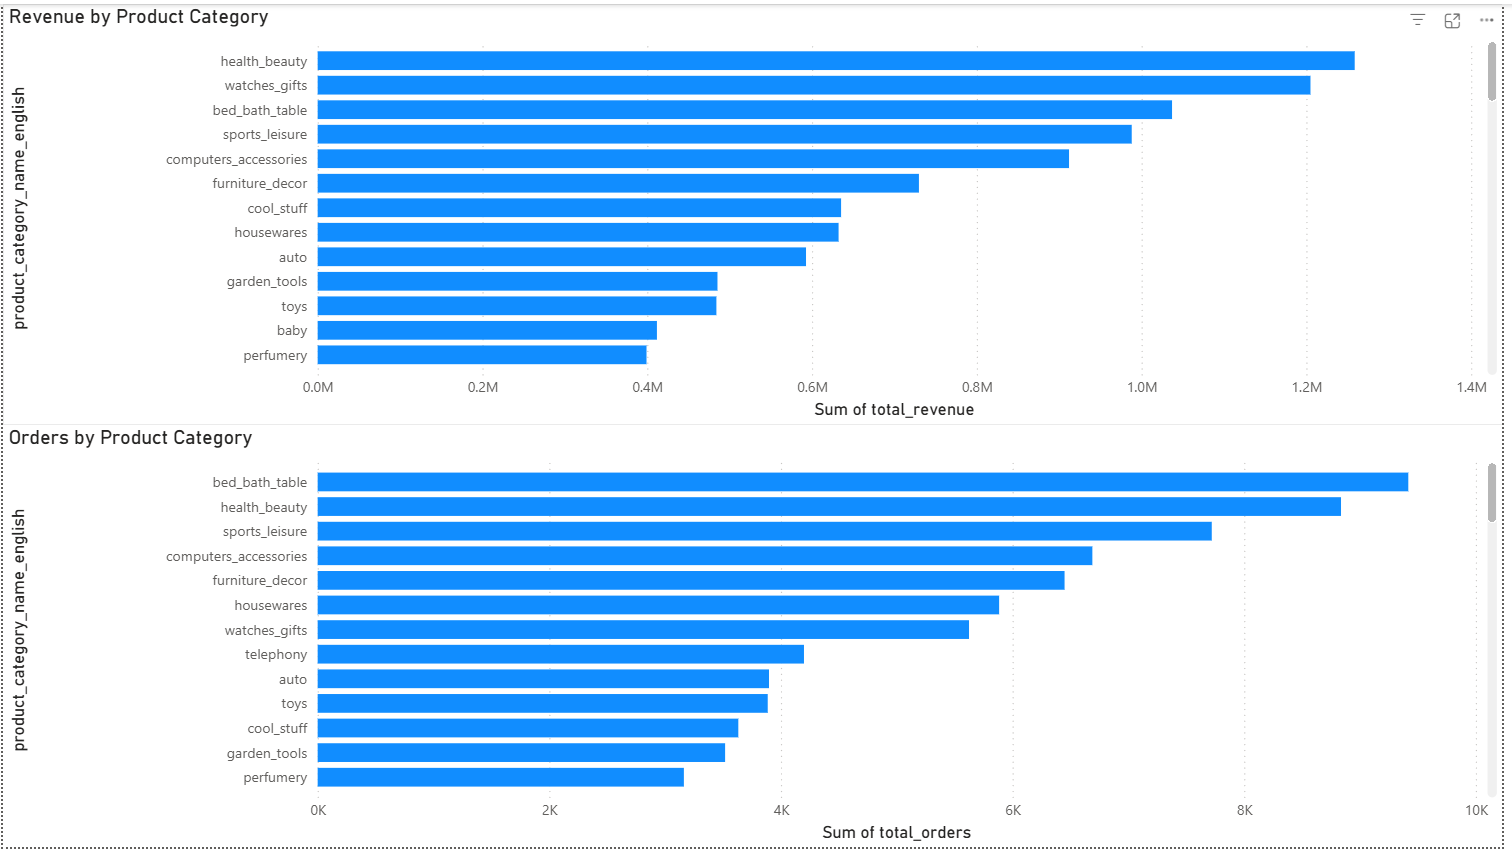

The page's visual inventory and layout, read from the dashboard file:
{"tool":"powerbi","page":{"name":"Product Analysis","canvas":[1280,720],"ordinal":1},"visuals":[{"type":"clusteredBarChart","title":"Revenue by Product Category","fields":{"Category":["category_performance.product_category_name_english"],"Y":["Sum(category_performance.total_revenue)"]},"box":[0,0,1280.4,359.6],"z":0},{"type":"clusteredBarChart","title":"Orders by Product Category","fields":{"Category":["category_performance.product_category_name_english"],"Y":["Sum(category_performance.total_orders)"]},"box":[0,359.6,1280.4,360.6],"z":1000}]}

Visuals, with their boxes in screenshot pixels (x1, y1, x2, y2), scaled from the page's 1280x720 canvas onto the 1512x854 screenshot:
"Revenue by Product Category" clusteredBarChart: rect(0, 0, 1511, 427)
"Orders by Product Category" clusteredBarChart: rect(0, 427, 1511, 853)
